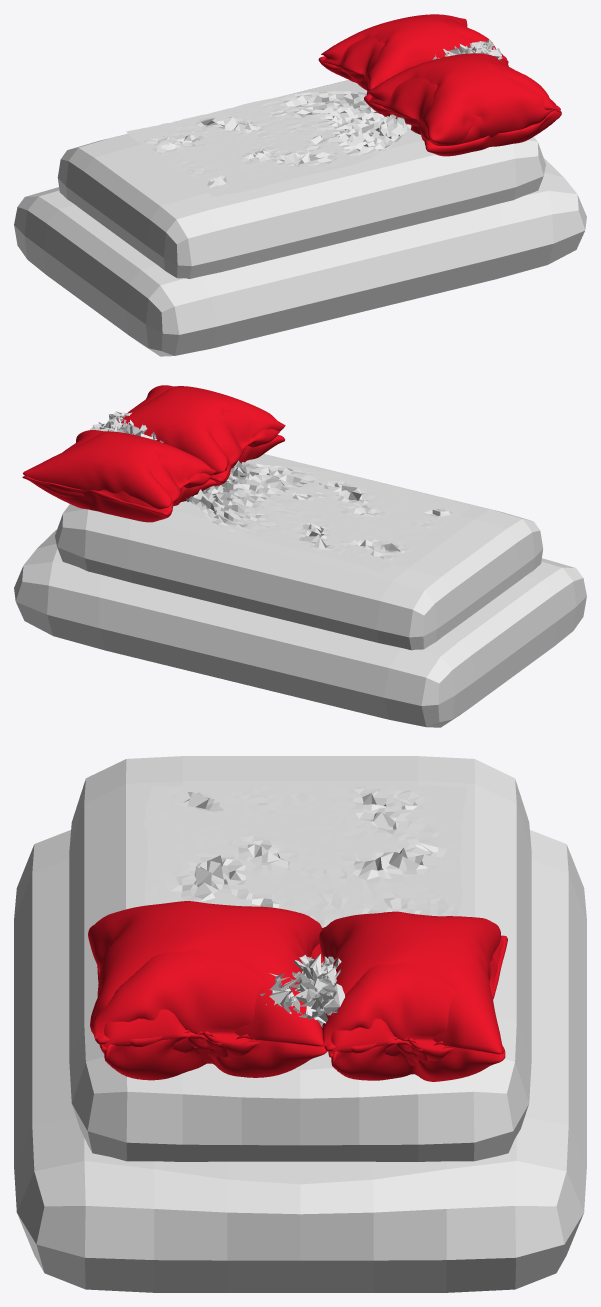
Rendered from Bed.fbx.
The picture shows the model from 3 angles, top to bottom: view 1: azimuth 30°, elevation 25°; view 2: azimuth 150°, elevation 25°; view 3: azimuth 270°, elevation 25°; orthographic projection. The views are drawn at different scales.
Parts seen in each view (by area): view 1: Bett, Matratze, Decke, Kissen.001, Kissen; view 2: Bett, Matratze, Decke, Kissen, Kissen.001; view 3: Bett, Matratze, Decke, Kissen.001, Kissen.
Part boxes in pixels (left/top/right/bottom): Bett: left=14, top=158, right=586, bottom=356; Matratze: left=57, top=80, right=545, bottom=278; Decke: left=126, top=40, right=502, bottom=196; Kissen.001: left=364, top=53, right=561, bottom=156; Kissen: left=318, top=14, right=508, bottom=95; Bett: left=14, top=530, right=586, bottom=727; Matratze: left=55, top=454, right=543, bottom=650; Decke: left=90, top=411, right=469, bottom=571; Kissen: left=22, top=430, right=216, bottom=522; Kissen.001: left=118, top=385, right=285, bottom=486; Bett: left=14, top=830, right=586, bottom=1292; Matratze: left=69, top=756, right=531, bottom=1161; Decke: left=144, top=785, right=467, bottom=1027; Kissen.001: left=88, top=901, right=327, bottom=1080; Kissen: left=319, top=911, right=507, bottom=1081.
Size of the model in its own units: 312 by 126 by 196.
